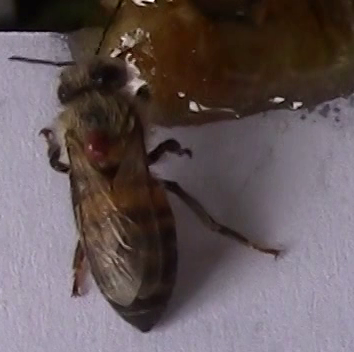Varroa destructor: (79, 123, 111, 167)
